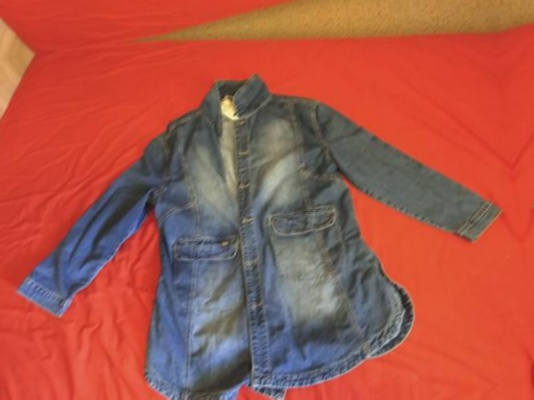Blazer: (0, 53, 515, 400), (521, 0, 534, 368), (32, 392, 534, 400), (0, 0, 458, 5)
